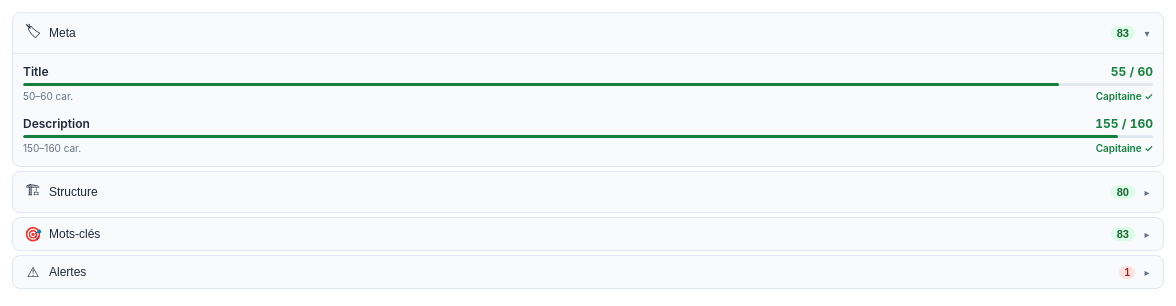
Test: IndicatorsTab › structure card shows word count progress
Click the button with class "card-header" showing "🏗 Structure 80 ▸". click: (73, 192)
box: [13,172,1163,212]
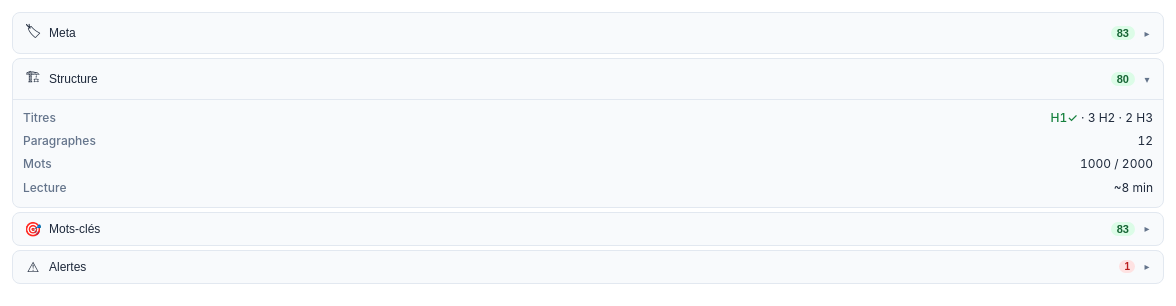
Check: the text "1000 / 2000" is shown, box [1080,154,1153,174]
